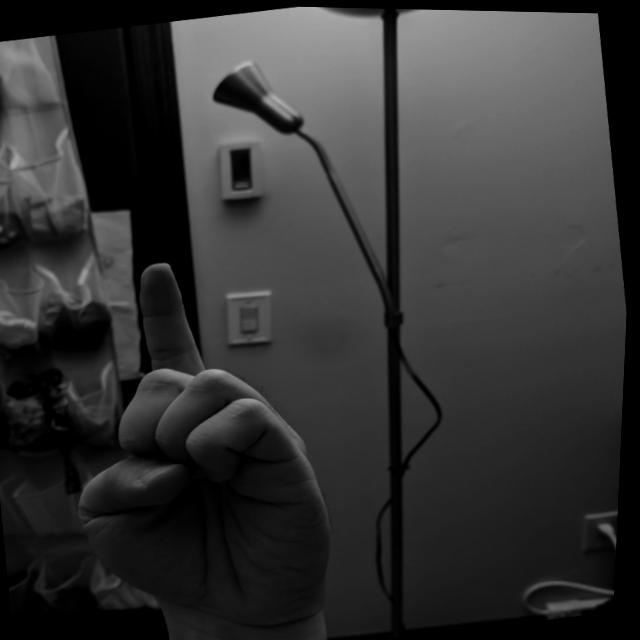D: (35, 233, 371, 639)
